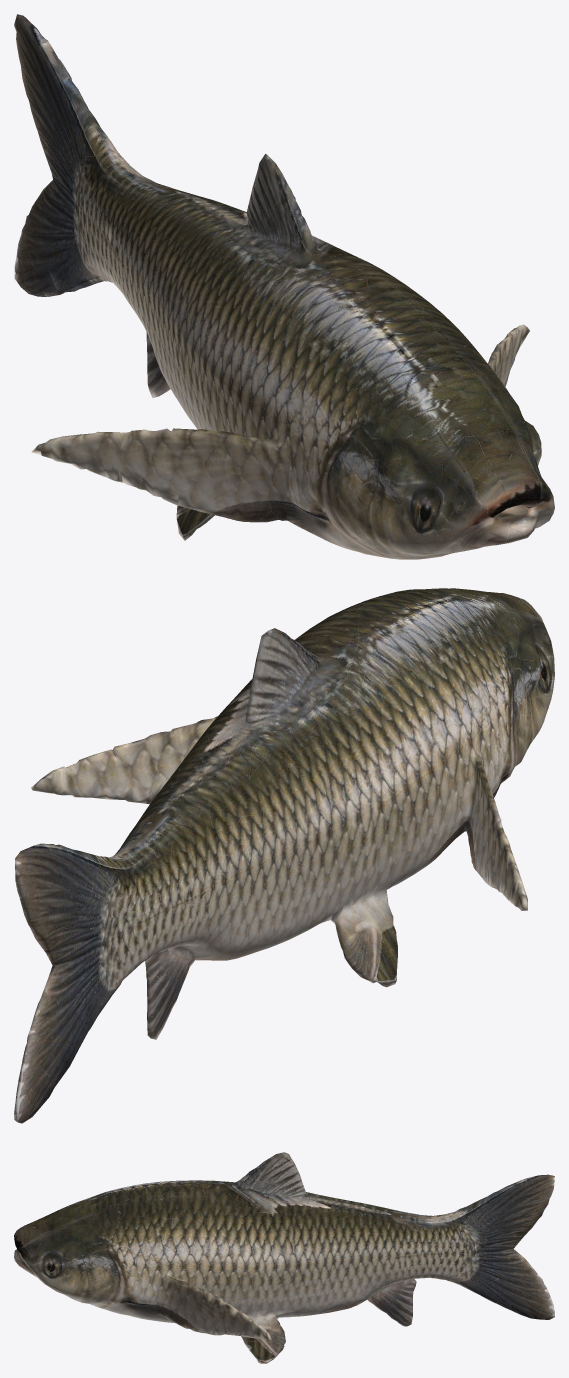
The model's file is fish_grasscarp.glb.
The picture shows the model from 3 angles, top to bottom: view 1: azimuth 30°, elevation 25°; view 2: azimuth 150°, elevation 25°; view 3: azimuth 270°, elevation 25°; orthographic projection. The views are drawn at different scales.
Visible parts, largest first — view 1: geometry_0; view 2: geometry_0; view 3: geometry_0.
Part boxes in pixels (bbox=[...]): geometry_0: bbox=[14, 14, 554, 559]; geometry_0: bbox=[14, 588, 554, 1123]; geometry_0: bbox=[14, 1152, 554, 1363].
Bounding box in the file's own units: 1.12 × 0.7383 × 1.96.
Materials: 1 (1 with a texture image).
